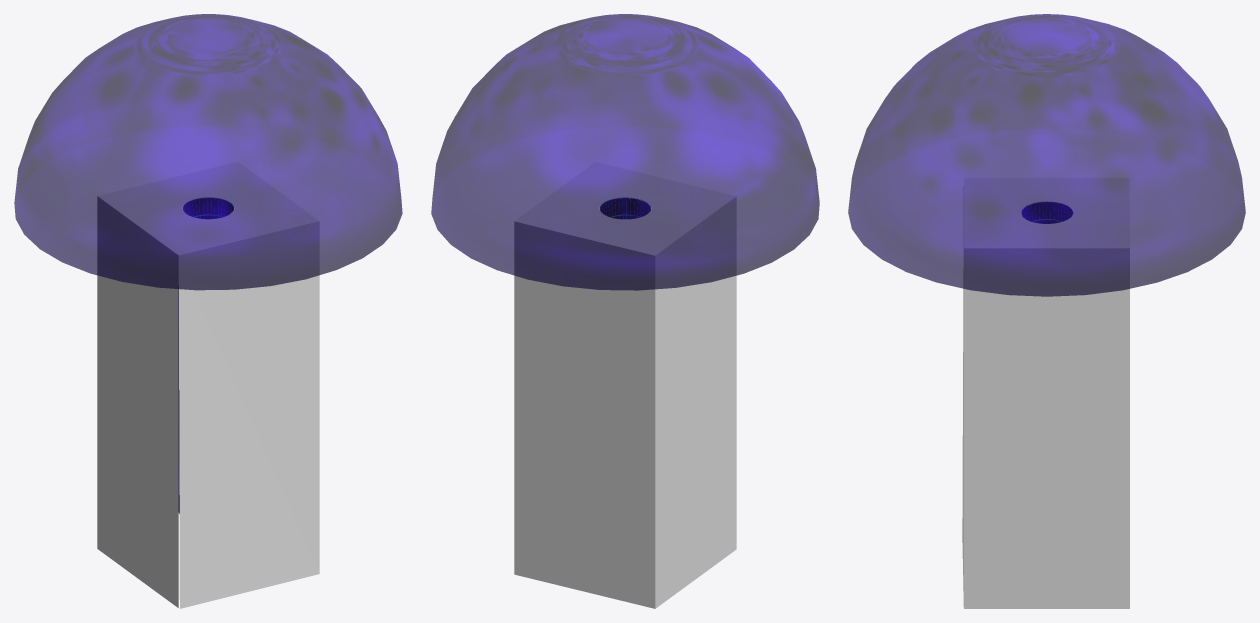
The model's file is bluemolecular.glb.
3 renders of one model, left to right at view 1: azimuth 30°, elevation 25°; view 2: azimuth 150°, elevation 25°; view 3: azimuth 270°, elevation 25°, orthographic. The views are drawn at different scales.
Parts seen in each view (by area): view 1: clip, dome, universe; view 2: clip, dome, universe; view 3: dome, clip, universe.
Boxes of the visible parts, left/top/right/bottom form: clip: left=97, top=162, right=319, bottom=608; dome: left=14, top=14, right=402, bottom=290; universe: left=178, top=198, right=233, bottom=513; clip: left=514, top=162, right=736, bottom=608; dome: left=431, top=14, right=819, bottom=290; universe: left=600, top=198, right=650, bottom=218; dome: left=848, top=14, right=1245, bottom=296; clip: left=962, top=178, right=1129, bottom=608; universe: left=1021, top=202, right=1073, bottom=223.
Size of the model in its own units: 20 by 30.04 by 20.
4 materials, 2 textured.
